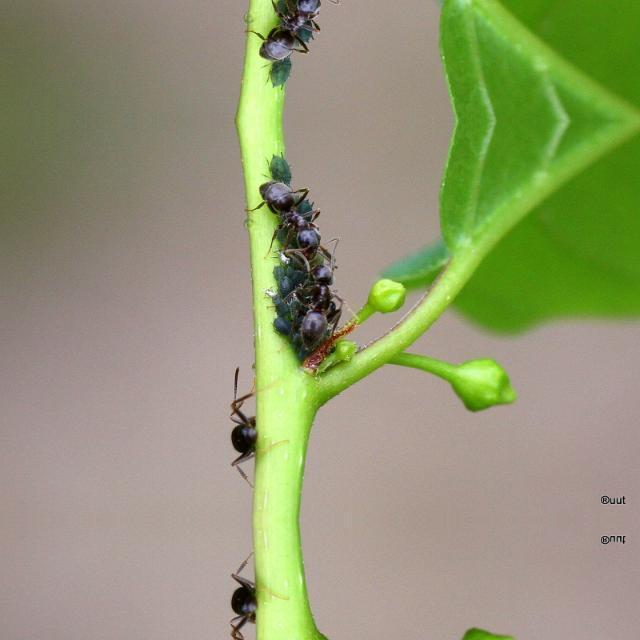Lasius: (251, 163, 333, 273), (292, 241, 354, 363), (251, 0, 333, 76), (225, 376, 277, 472), (225, 566, 277, 640)
